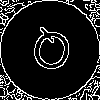Q: (25, 25, 76, 82)
